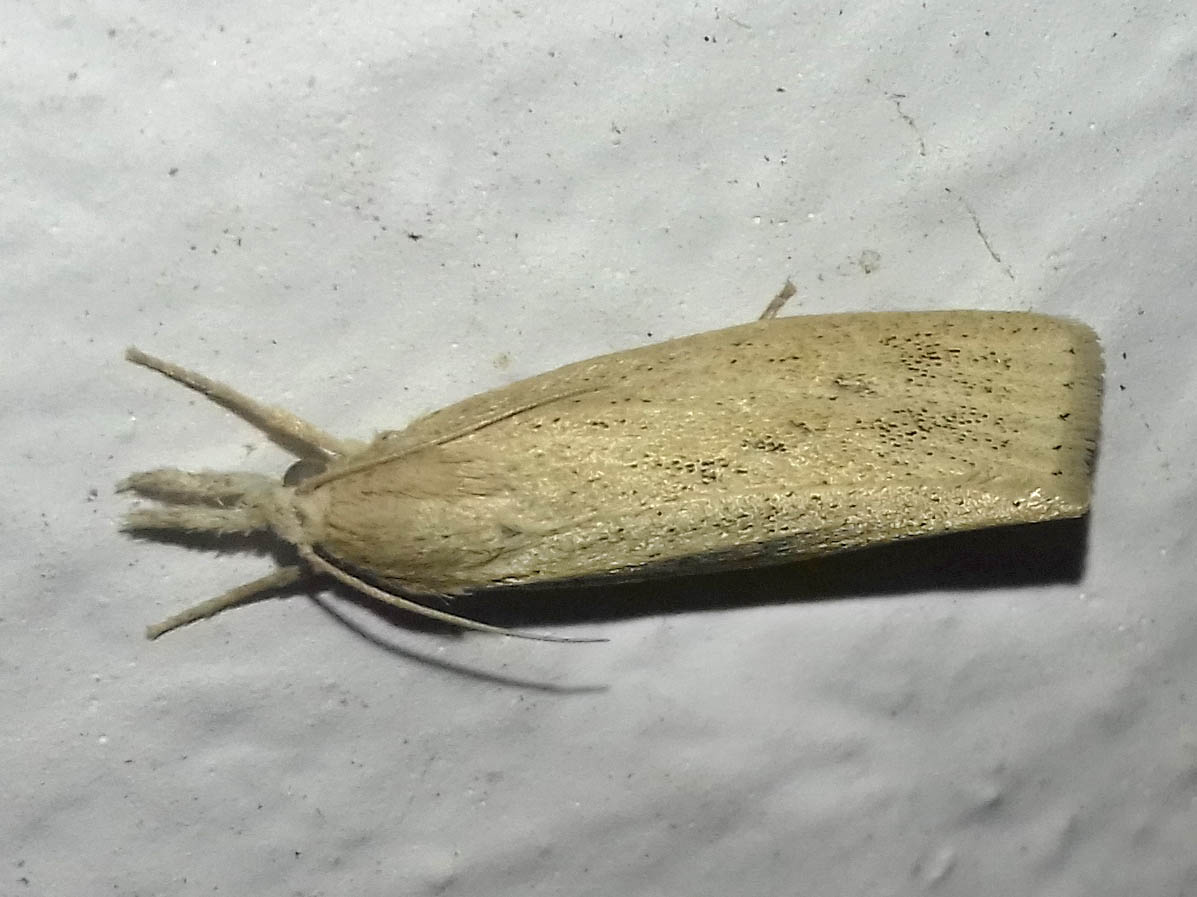Crambidae: (122, 241, 1115, 648)
